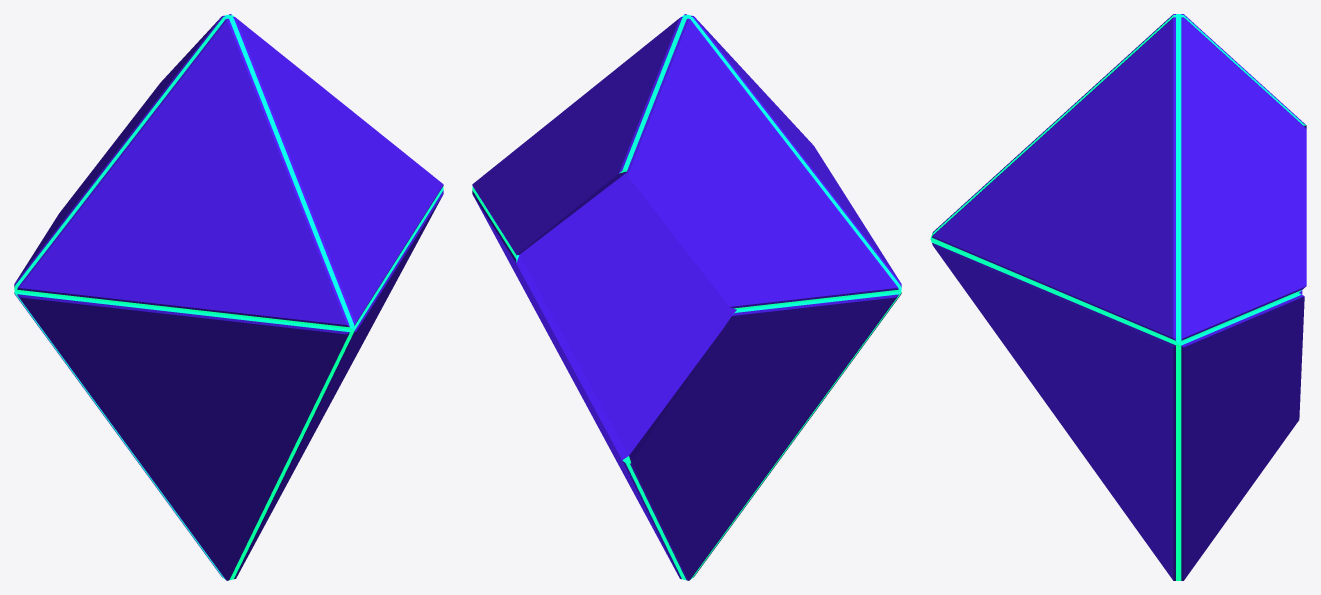
File: MissileDrone.fbx
3 renders of one model, left to right at view 1: azimuth 30°, elevation 25°; view 2: azimuth 150°, elevation 25°; view 3: azimuth 270°, elevation 25°, orthographic.
Visible parts, largest first — view 1: BaseTop; view 2: BaseTop; view 3: BaseTop.
Boxes of the visible parts, box(x1,y1,x2,y2) form: BaseTop: box(14, 14, 443, 580); BaseTop: box(472, 14, 901, 580); BaseTop: box(930, 14, 1306, 580).
Bounding box in the file's own units: 19.2 × 14.55 × 24.
